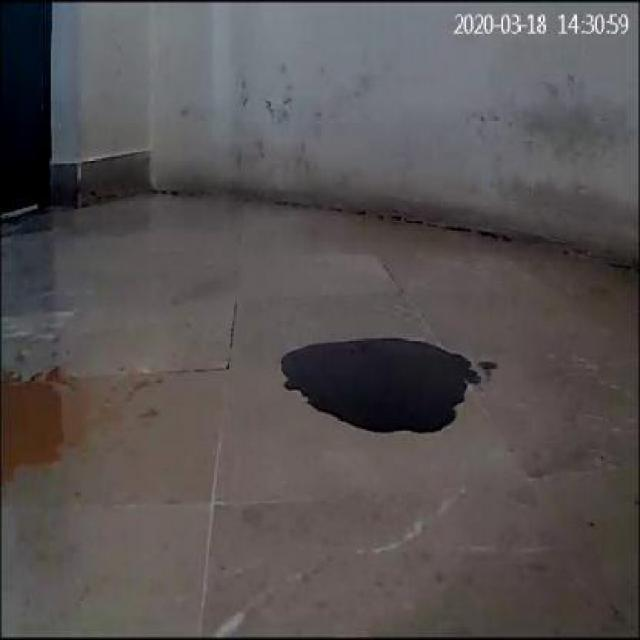spill: (274, 336, 480, 436)
